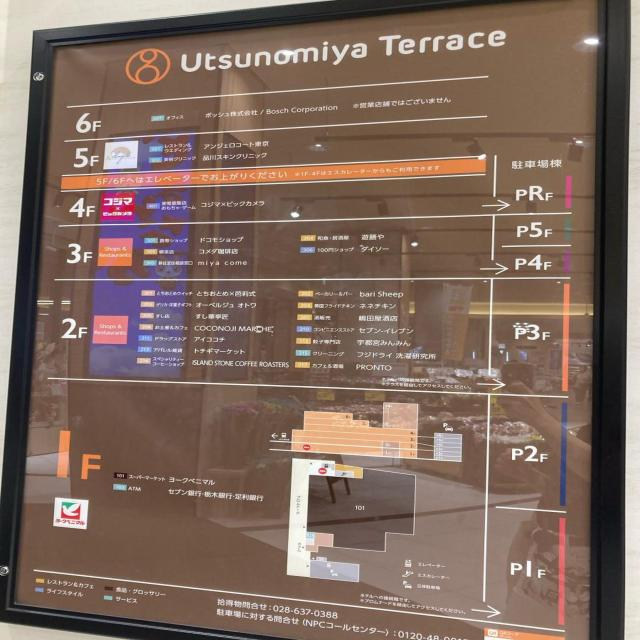building: (174, 21, 517, 80)
facility: (201, 100, 343, 123), (189, 358, 291, 371), (199, 136, 273, 152), (352, 349, 442, 362), (198, 197, 268, 212), (199, 151, 274, 164), (191, 324, 277, 335), (354, 337, 417, 348), (195, 289, 262, 299), (190, 347, 251, 357), (194, 301, 261, 310), (196, 234, 250, 245), (197, 247, 250, 258), (195, 259, 252, 269), (357, 327, 420, 336), (353, 362, 398, 373), (193, 312, 237, 323), (356, 314, 404, 324), (357, 290, 409, 299), (357, 302, 400, 311), (191, 335, 229, 344), (359, 245, 393, 255), (358, 232, 388, 243)
floor: (52, 315, 92, 347), (60, 239, 98, 272), (71, 109, 107, 137), (63, 194, 100, 221), (67, 144, 103, 171)
